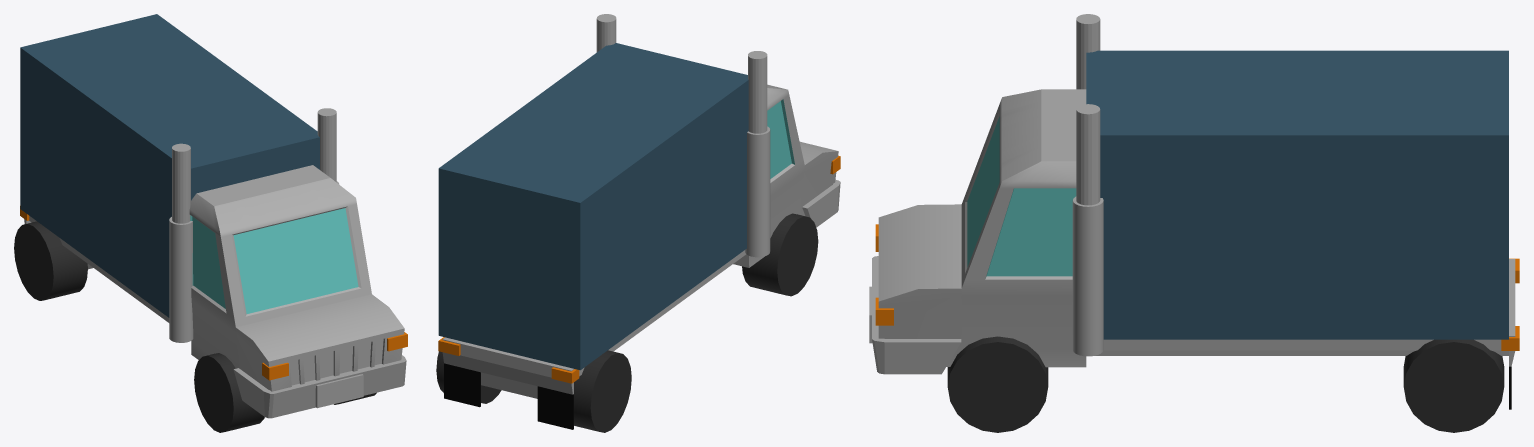
Rendered from GJTruckColoured.fbx.
3 renders of one model, left to right at view 1: azimuth 30°, elevation 25°; view 2: azimuth 150°, elevation 25°; view 3: azimuth 270°, elevation 25°, orthographic. The views are drawn at different scales.
Visible parts, largest first — view 1: pCube1, pCylinder1, pCylinder6, pCube6, pCylinder8, pCylinder2, pCube9, pCube2; view 2: pCube1, pCylinder1, pCylinder8, pCylinder6, pCube6, pCube8, pCylinder2, pCylinder5; view 3: pCube1, pCylinder5, pCylinder7, pCylinder2, pCube6, pCylinder1.
Part boxes in pixels (bbox=[...]): pCube1: bbox=[20, 14, 404, 391]; pCylinder1: bbox=[169, 143, 193, 342]; pCylinder6: bbox=[14, 221, 87, 300]; pCube6: bbox=[233, 355, 406, 418]; pCylinder8: bbox=[194, 353, 264, 432]; pCylinder2: bbox=[317, 108, 339, 184]; pCube9: bbox=[315, 374, 363, 408]; pCube2: bbox=[262, 362, 288, 380]; pCube1: bbox=[438, 43, 838, 429]; pCylinder1: bbox=[745, 51, 770, 257]; pCylinder8: bbox=[742, 213, 818, 296]; pCylinder6: bbox=[574, 350, 631, 432]; pCube6: bbox=[802, 180, 840, 227]; pCube8: bbox=[481, 372, 537, 398]; pCylinder2: bbox=[596, 14, 616, 52]; pCylinder5: bbox=[436, 351, 501, 403]; pCube1: bbox=[878, 50, 1515, 409]; pCylinder5: bbox=[1403, 339, 1504, 432]; pCylinder7: bbox=[947, 336, 1048, 432]; pCylinder2: bbox=[1072, 104, 1103, 356]; pCube6: bbox=[872, 256, 961, 374]; pCylinder1: bbox=[1076, 14, 1100, 89].
Size of the model in its own units: 2.18 by 3.2 by 5.82.
